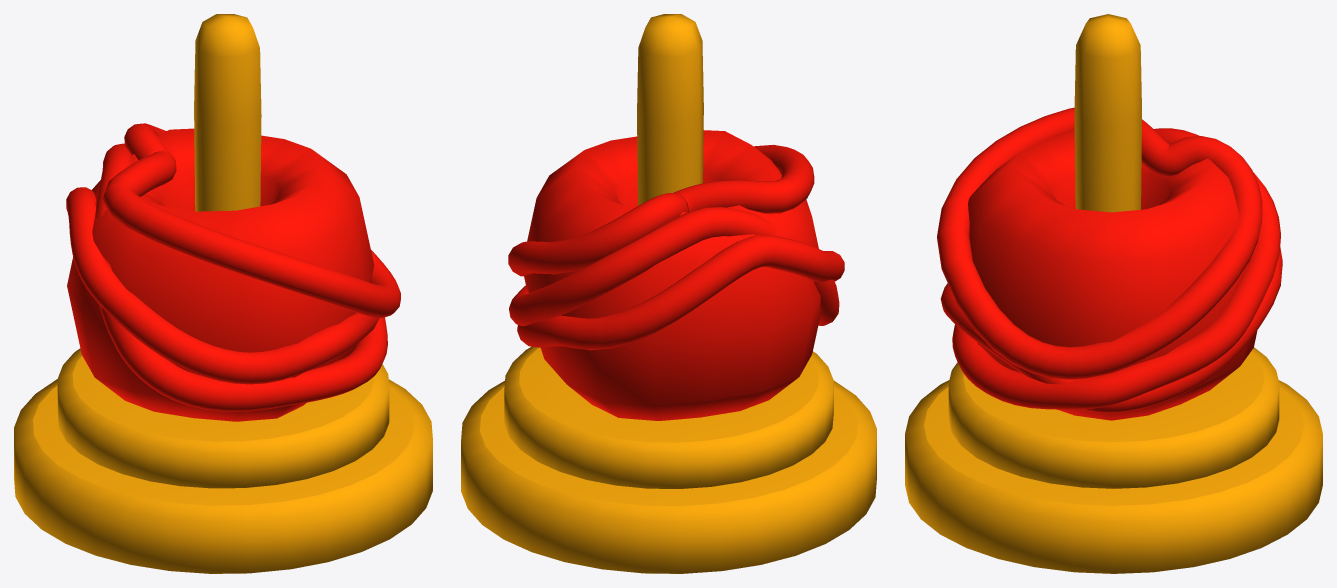
File: pelotes.fbx
3 renders of one model, left to right at view 1: azimuth 30°, elevation 25°; view 2: azimuth 150°, elevation 25°; view 3: azimuth 270°, elevation 25°, orthographic.
Parts seen in each view (by area): view 1: BézierCurve.023; view 2: BézierCurve.023; view 3: BézierCurve.023.
Part boxes in pixels (box(x1,y1,x2,y2)): BézierCurve.023: box(14, 14, 432, 573); BézierCurve.023: box(461, 14, 876, 573); BézierCurve.023: box(905, 14, 1322, 573).
Size of the model in its own units: 257 by 325 by 257.
